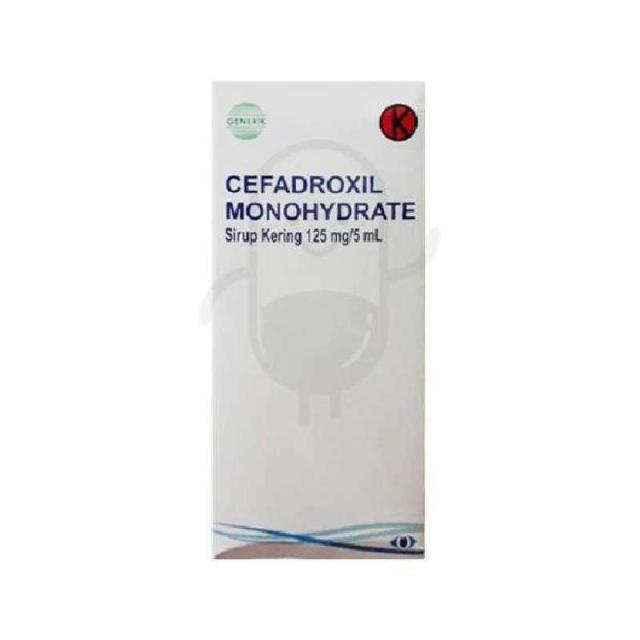drug-name: (222, 170, 420, 224)
